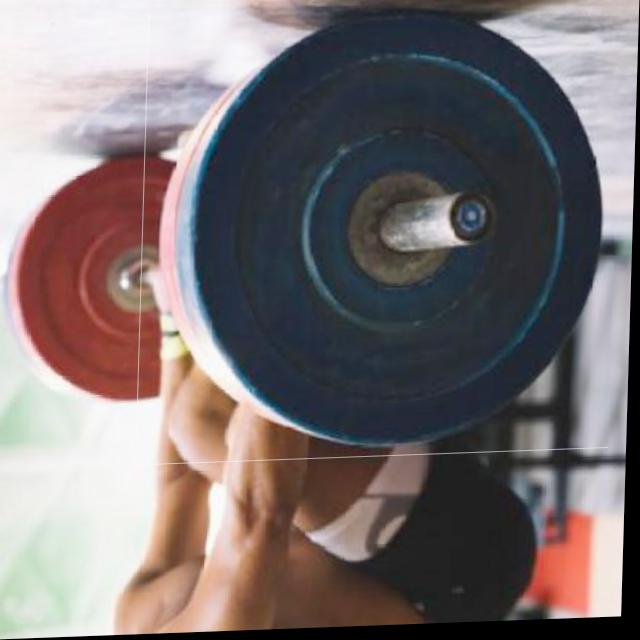barbell: (139, 3, 622, 468)
